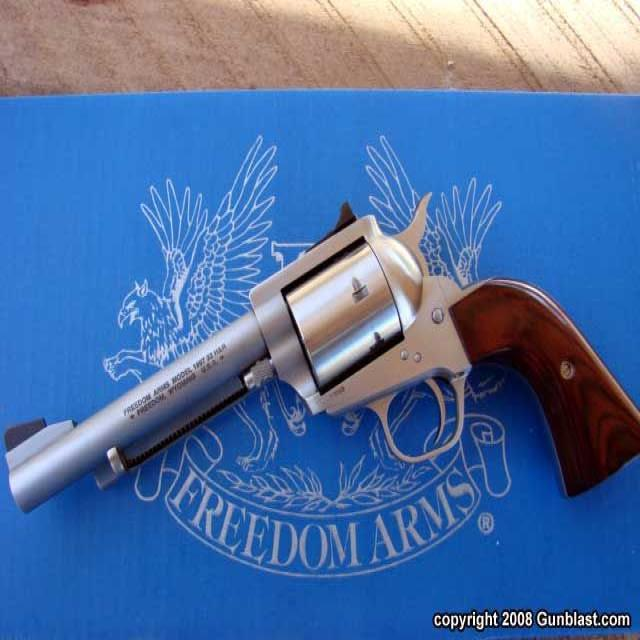HandGun: (4, 193, 640, 516)
